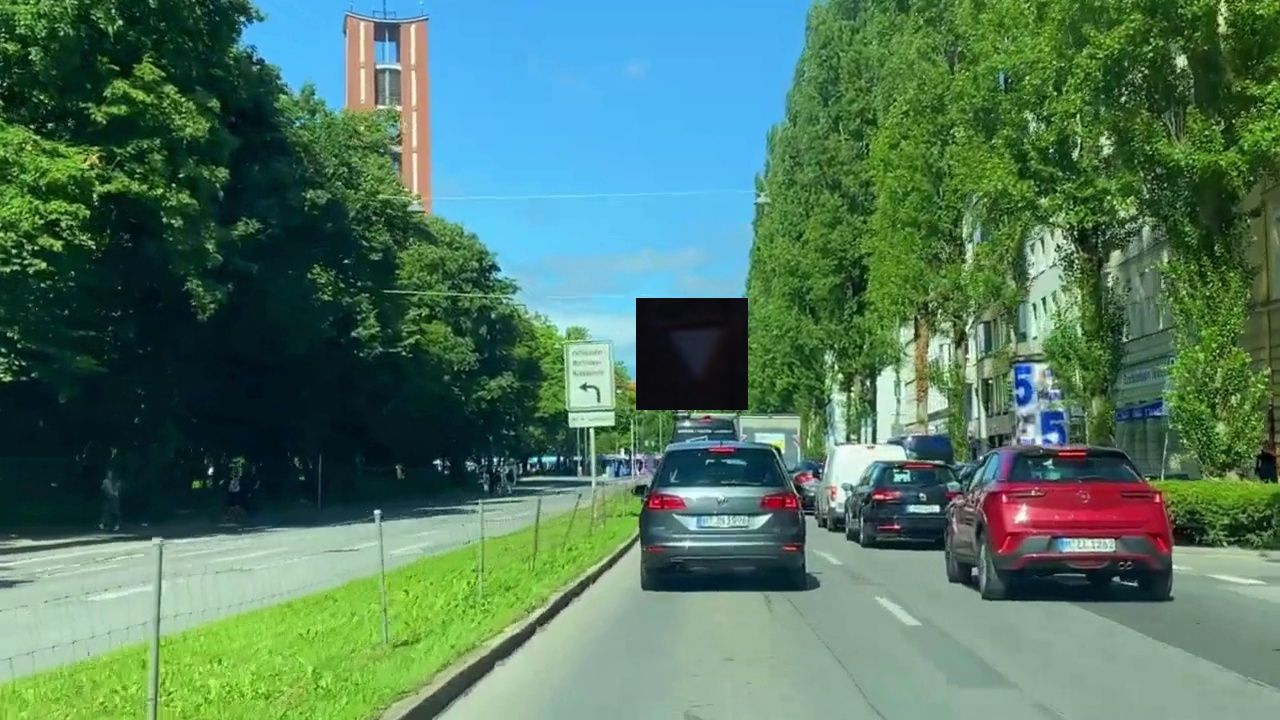Yield: (636, 298, 748, 410)
